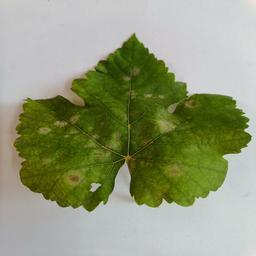Powdery-Mildew: (59, 154, 90, 191), (94, 135, 120, 176), (145, 113, 178, 137), (158, 159, 188, 182), (123, 89, 140, 106), (78, 133, 95, 149), (184, 97, 200, 113)
